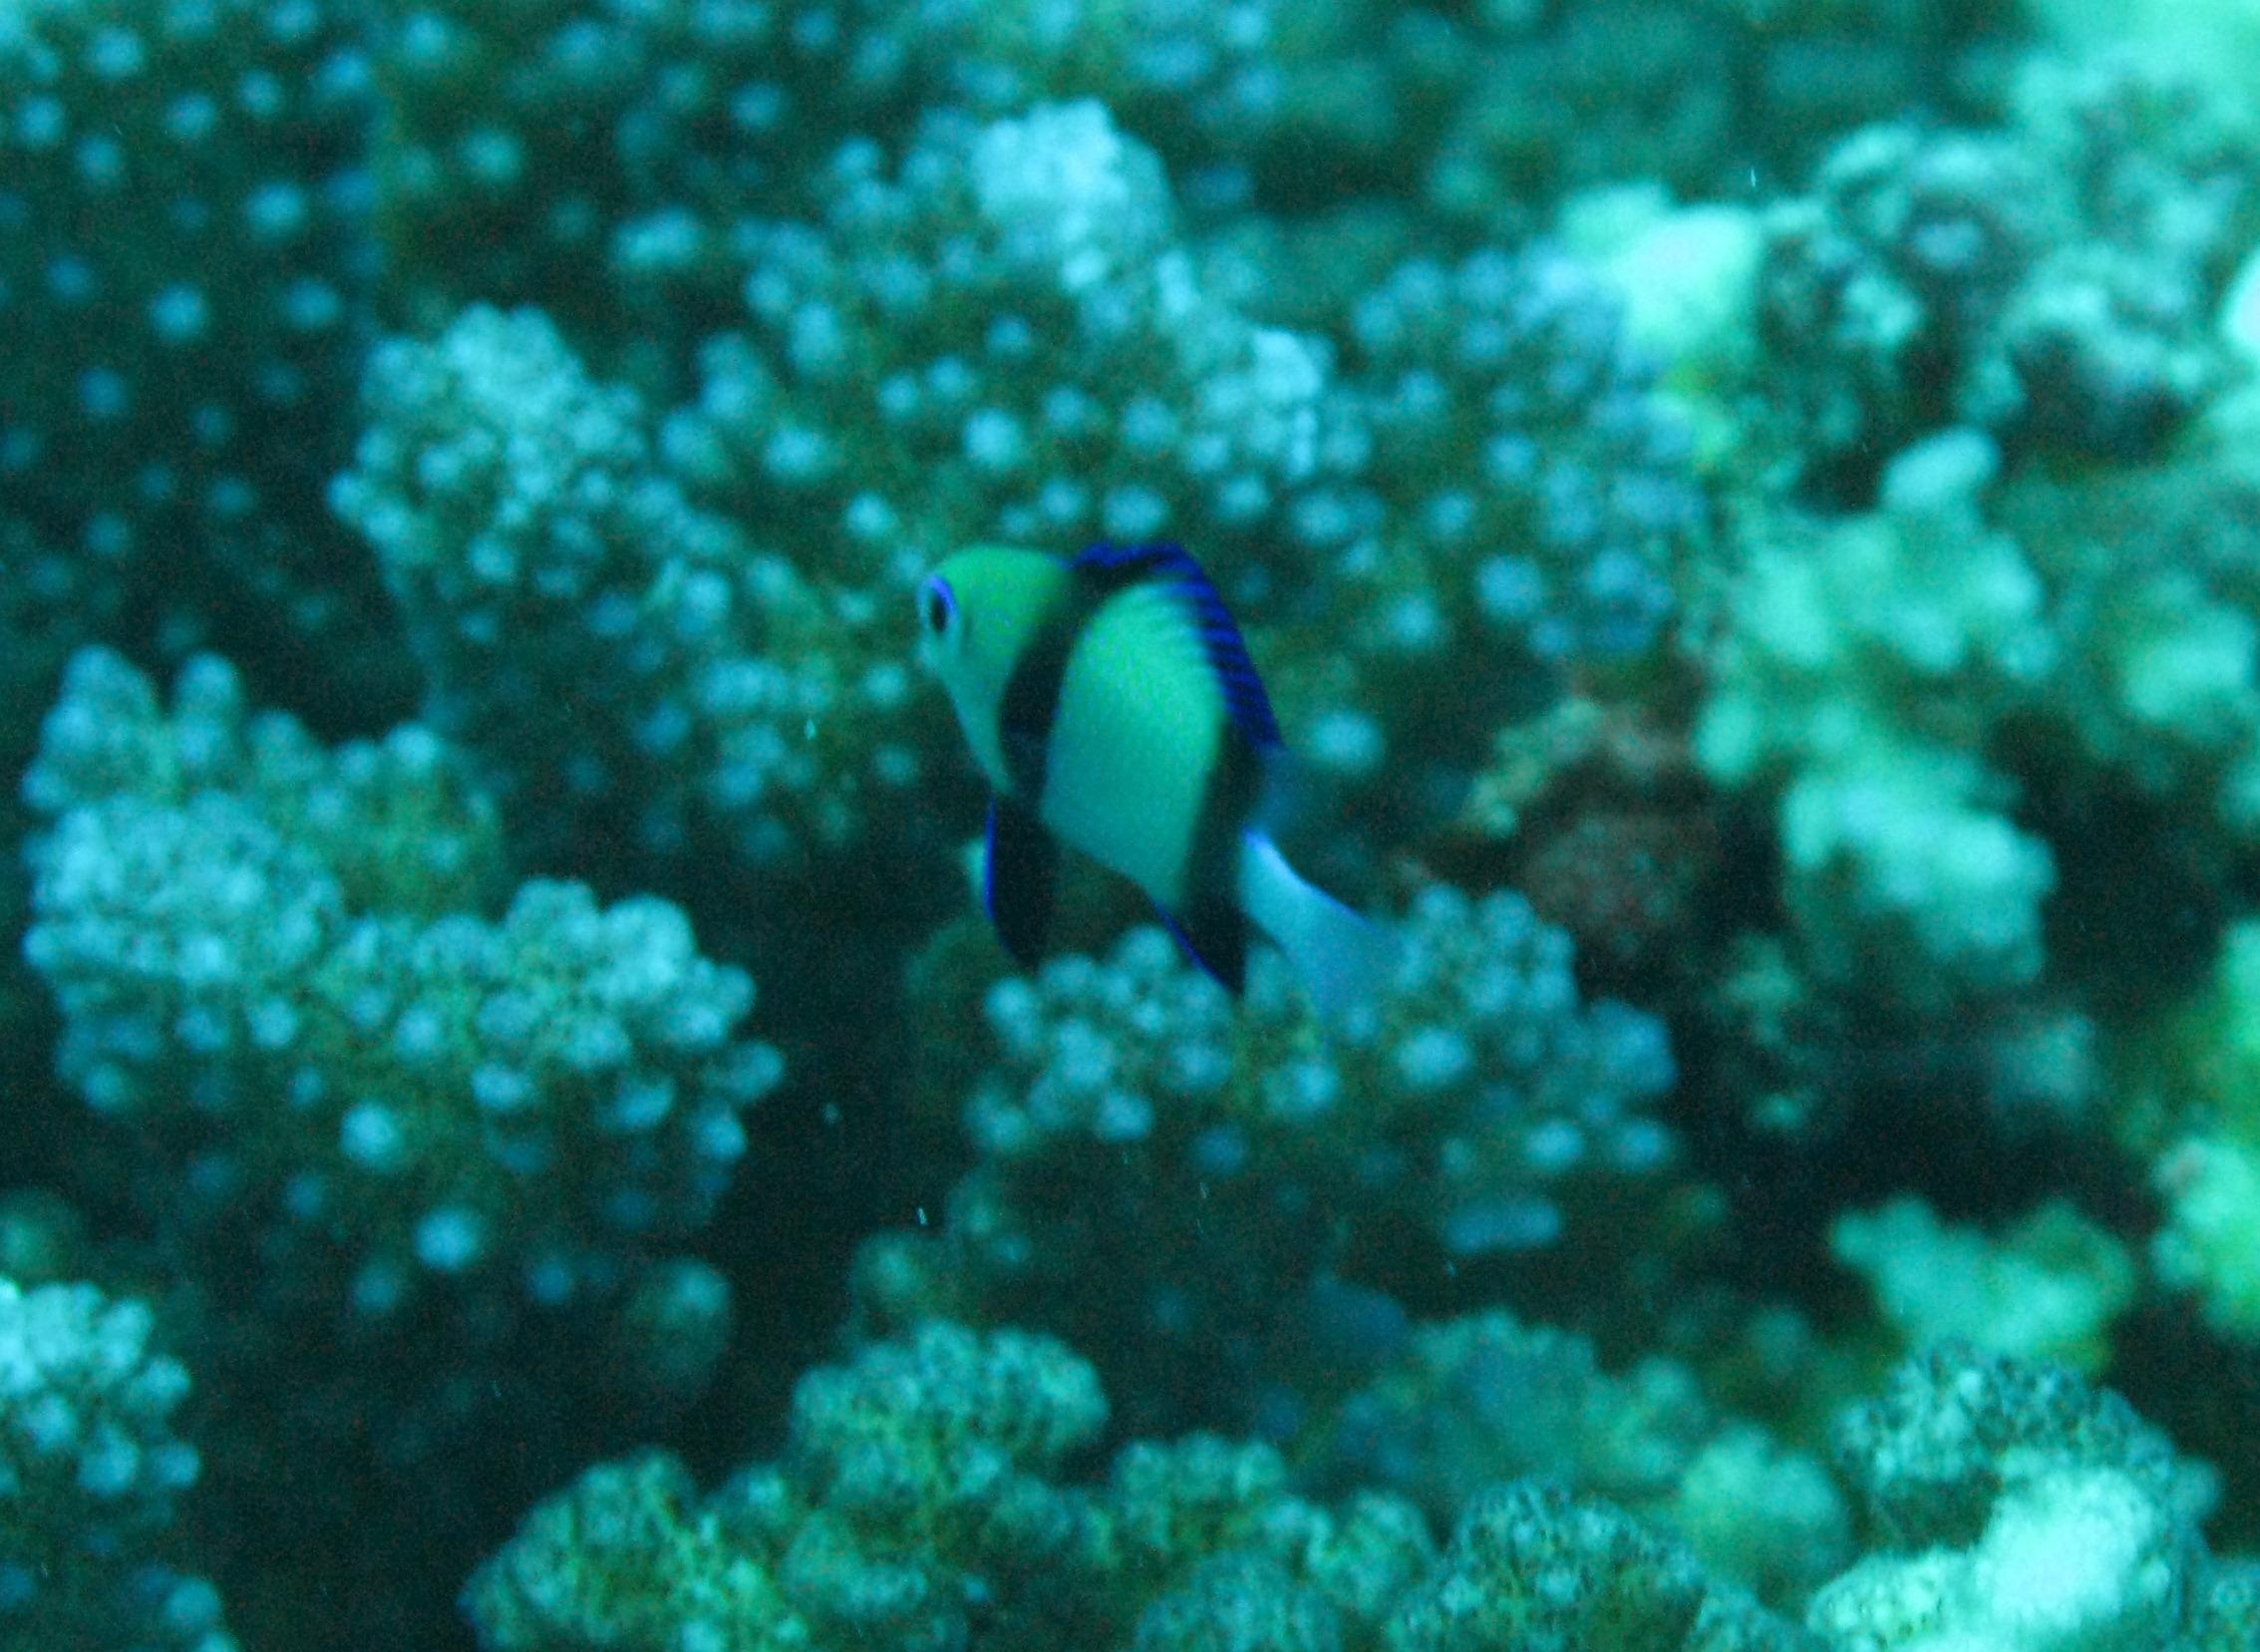Dascyllus reticulatus: (642, 657, 1474, 1052)
